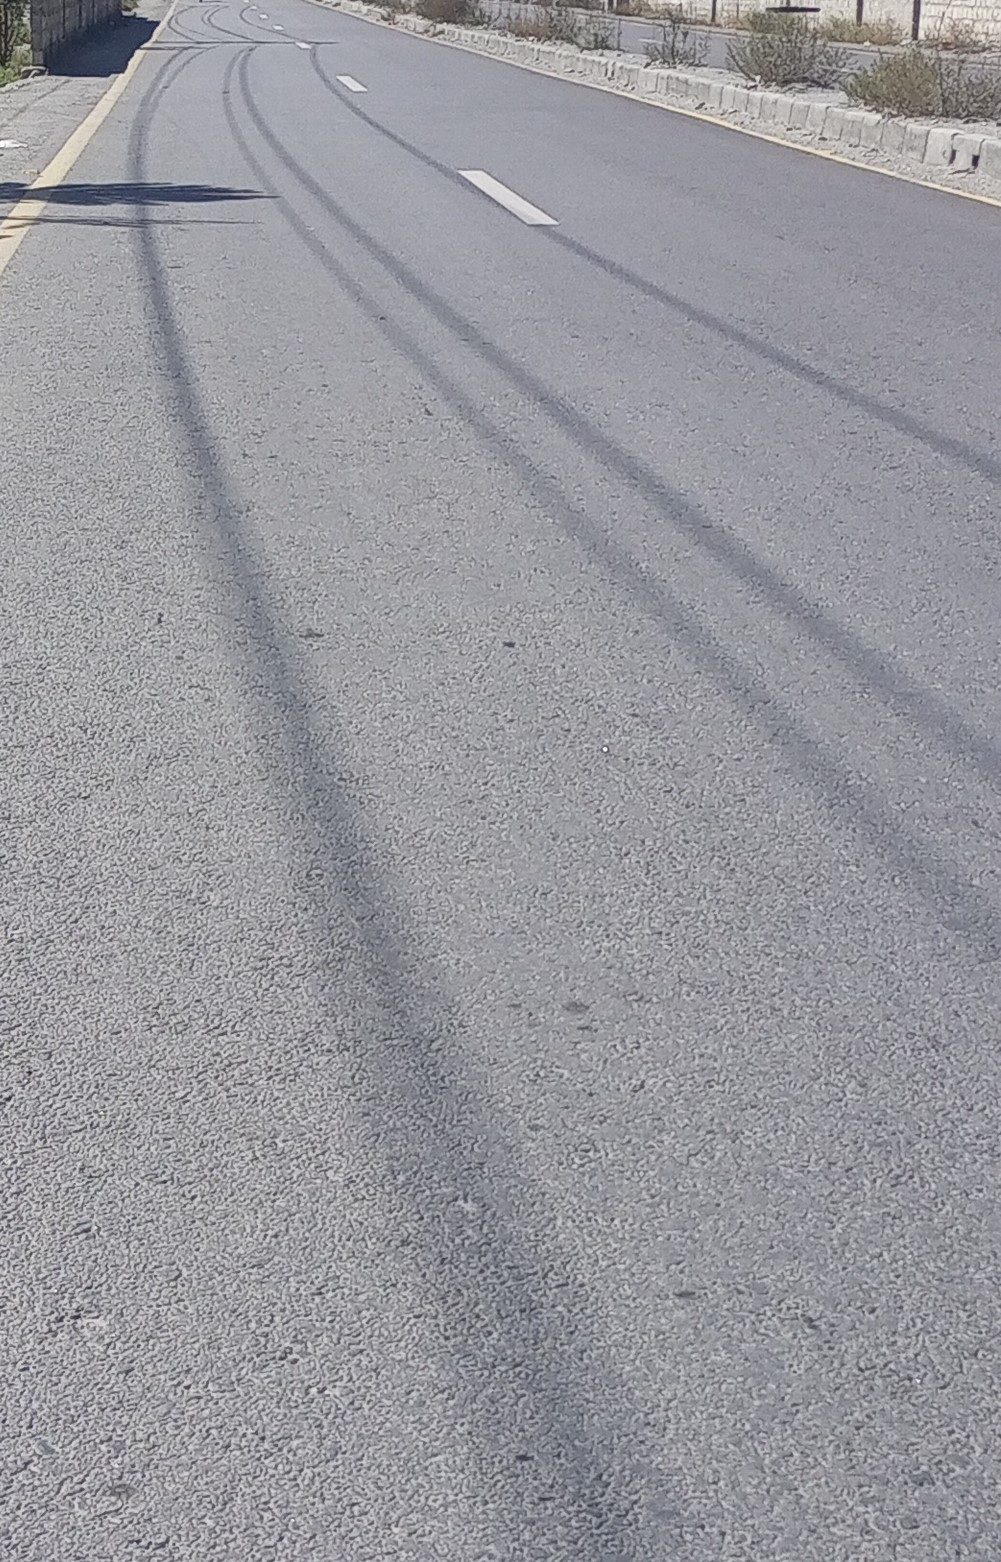straightRoad: (109, 3, 883, 919)
